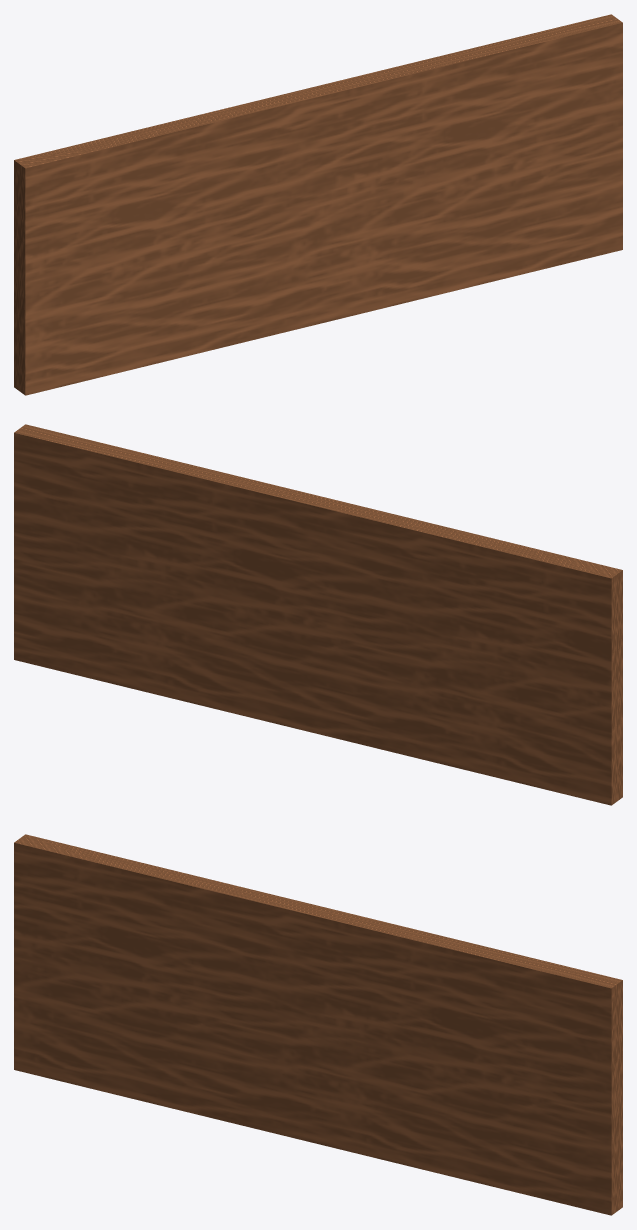
File: BasicWall_1_2.fbx
The picture shows the model from 3 angles, top to bottom: view 1: azimuth 30°, elevation 25°; view 2: azimuth 150°, elevation 25°; view 3: azimuth 330°, elevation 25°; orthographic projection.
Visible parts, largest first — view 1: BasicWall_1/2; view 2: BasicWall_1/2; view 3: BasicWall_1/2.
Boxes of the visible parts, box(x1,y1,x2,y2) form: BasicWall_1/2: box(14, 14, 622, 395); BasicWall_1/2: box(14, 424, 622, 805); BasicWall_1/2: box(14, 834, 622, 1215).
Size of the model in its own units: 330 by 120 by 11.01.
